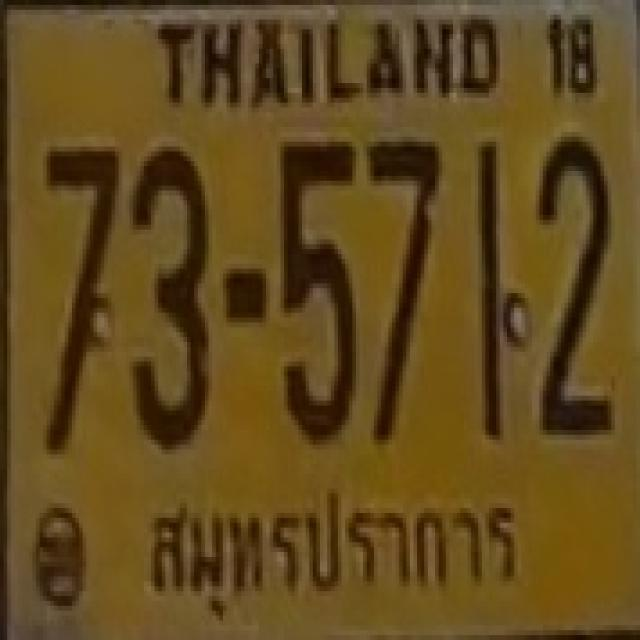2: (536, 134, 611, 408), (536, 134, 608, 388)
3: (128, 142, 206, 444)
5: (277, 139, 352, 437)
7: (366, 142, 438, 440), (43, 142, 115, 420), (366, 137, 438, 410), (366, 136, 438, 356), (366, 137, 438, 327), (43, 142, 115, 322)
SPK: (132, 481, 530, 607)
